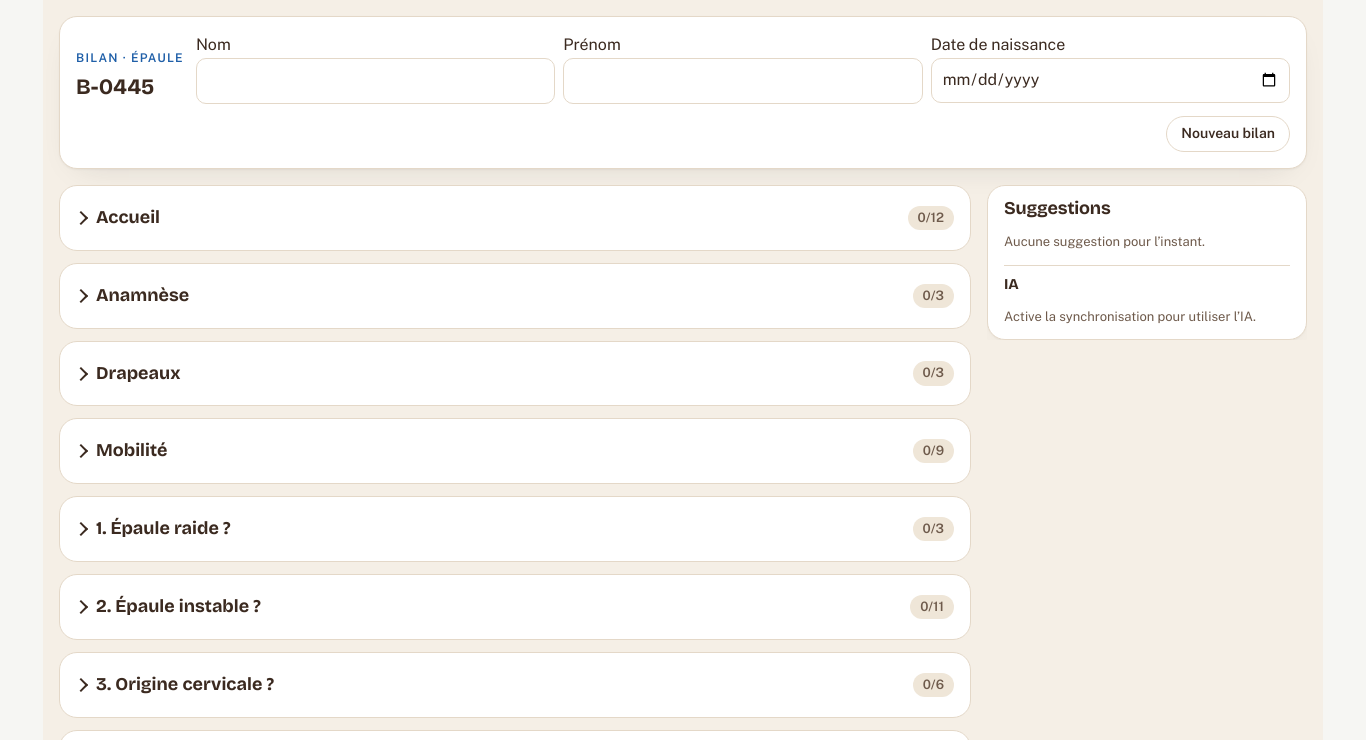
section Accueil (physio) › saisie du physio : statut passe à « physio », suggestion CSI
Expected: the text with class "bilan-sec-title" reads "Accueil", x1=96 y1=206 x2=160 y2=228
What coordinates should you click on to do the following:
click the heading "Accueil 0/12"
I would click on:
 (128, 217)
Its box is x1=96 y1=206 x2=954 y2=230.
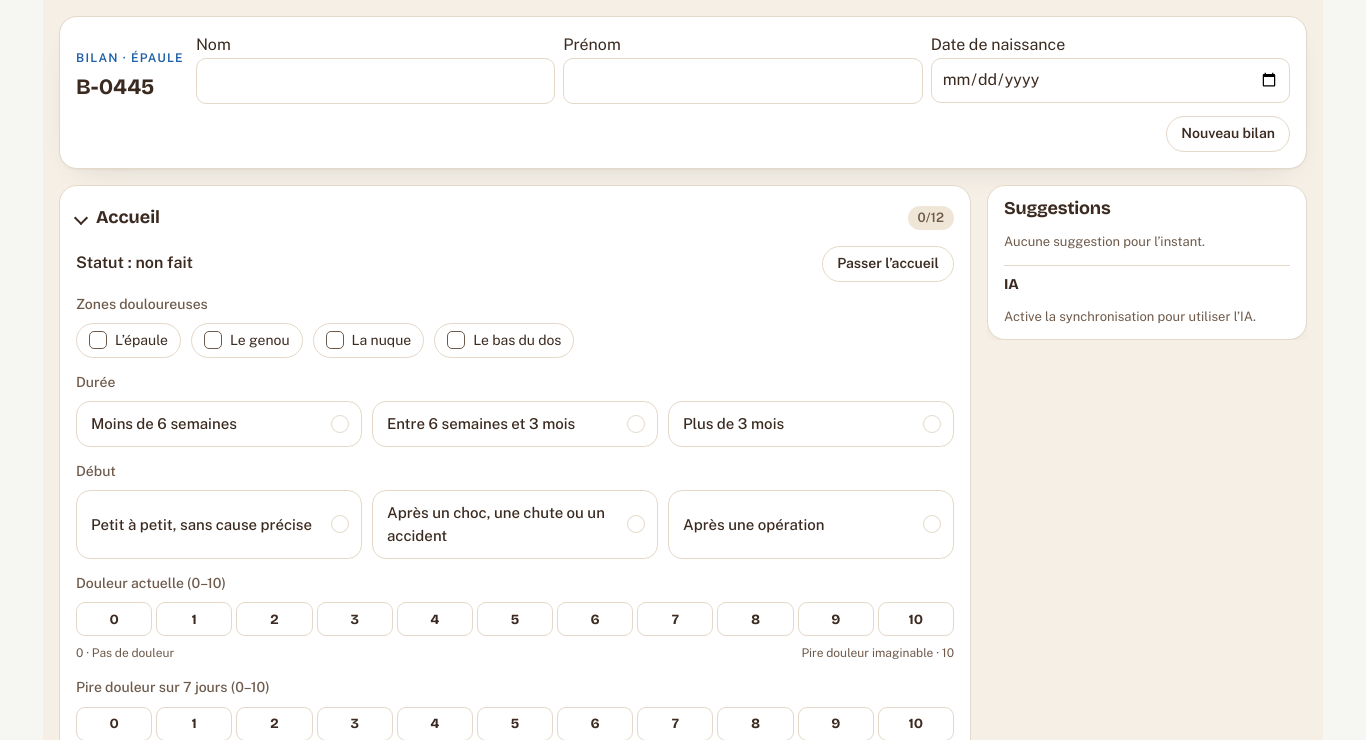
What coordinates should you click on to do the following:
click the radio button labelled "Plus de 3 mois"
I would click on:
 (734, 424)
Its box is x1=668 y1=401 x2=954 y2=447.
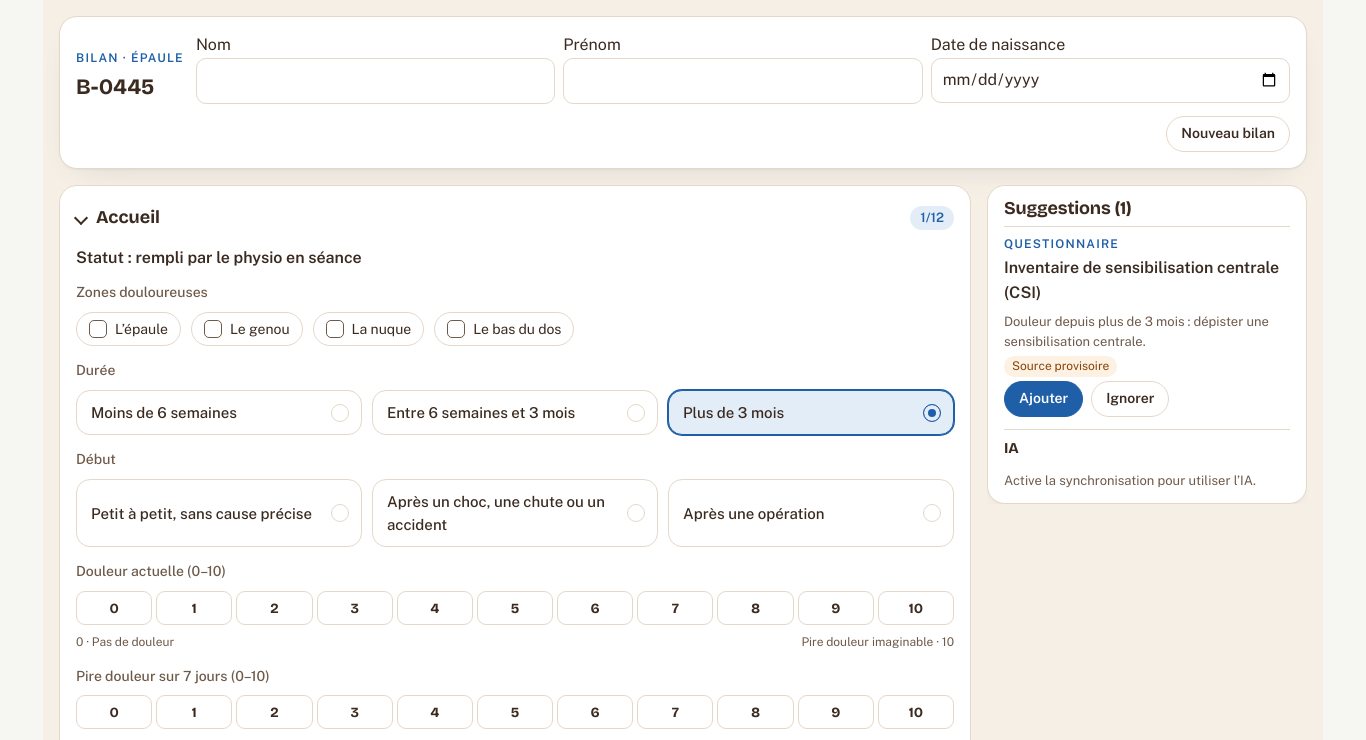
Now the text "Statut : rempli par le physio en séance" is shown, box x1=76 y1=246 x2=362 y2=270
Now the text "Inventaire de sensibilisation centrale (CSI)" is shown, box x1=1004 y1=256 x2=1290 y2=306
